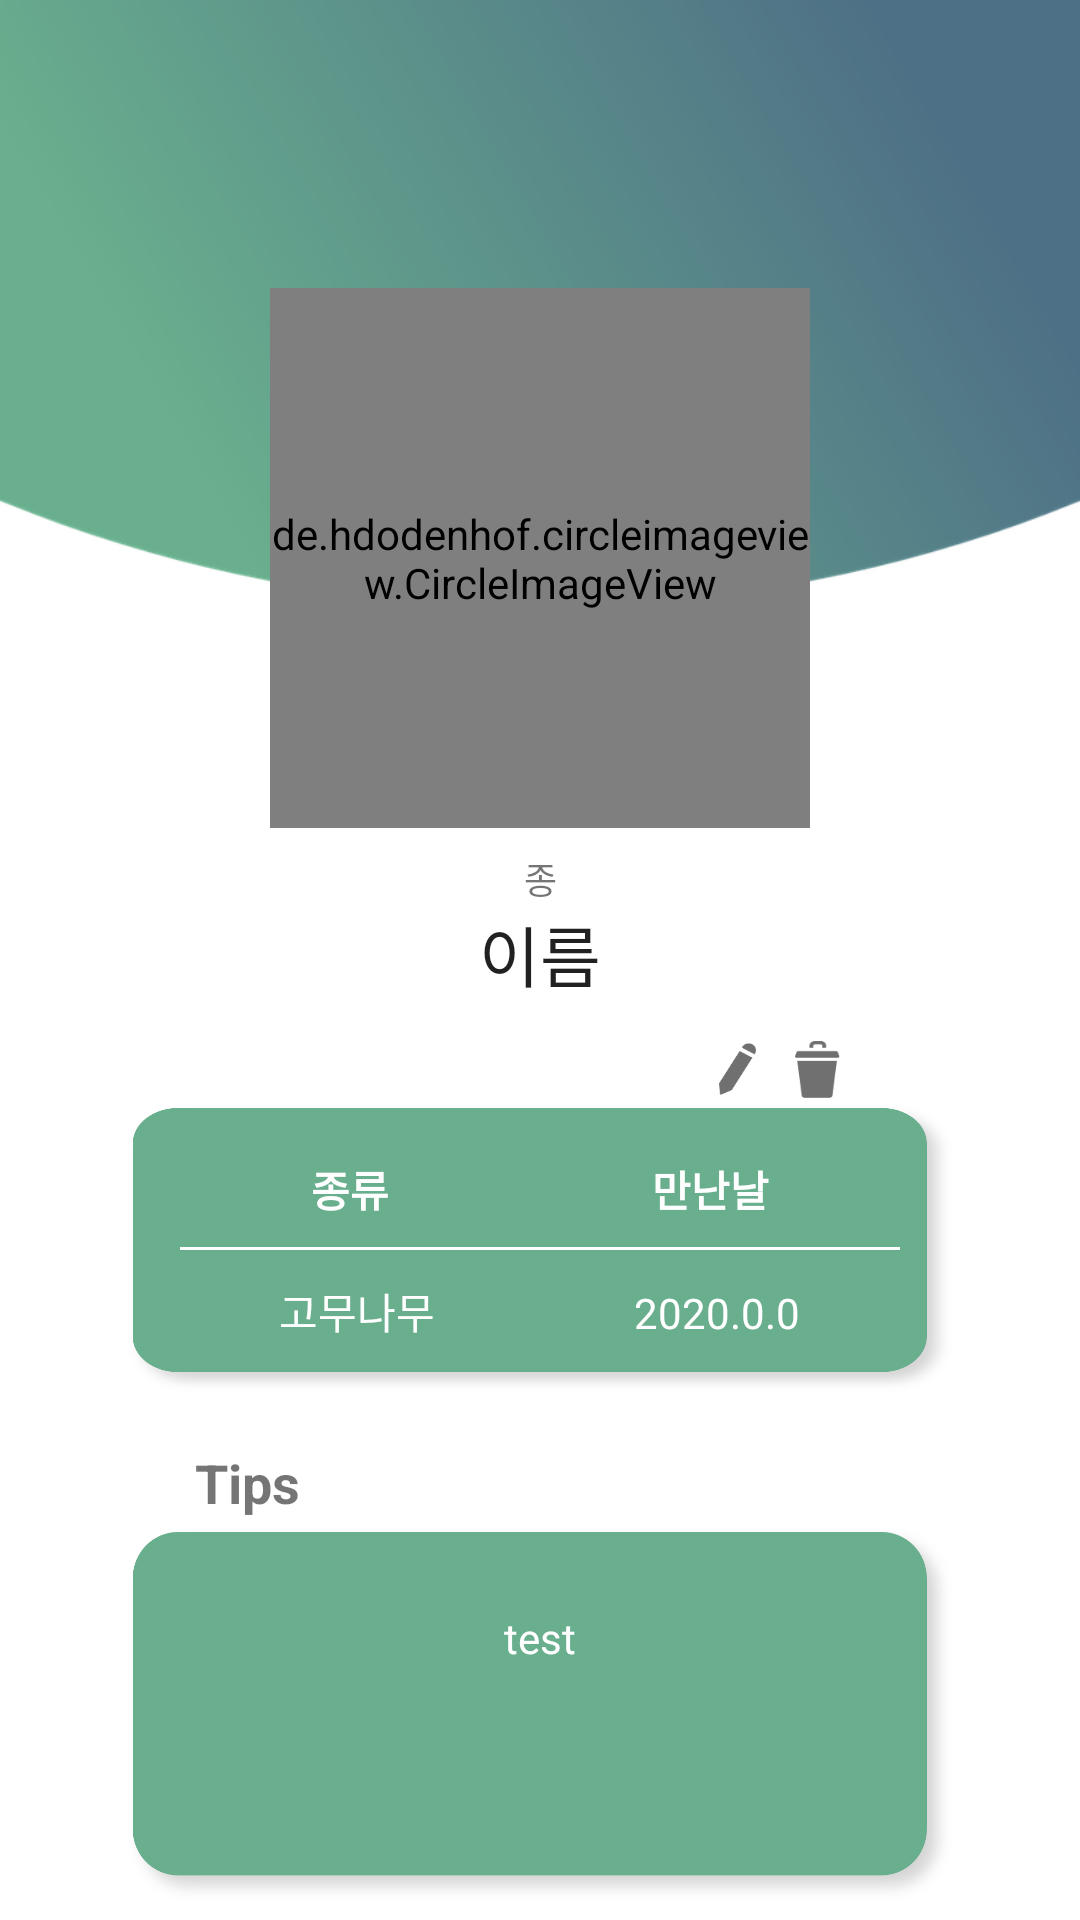

Icon bounding boxes for this 1080x1920 phone screenshot, format (x1, y1, x2, y2):
delete: (795, 1041, 840, 1098)
edit: (719, 1043, 756, 1095)
